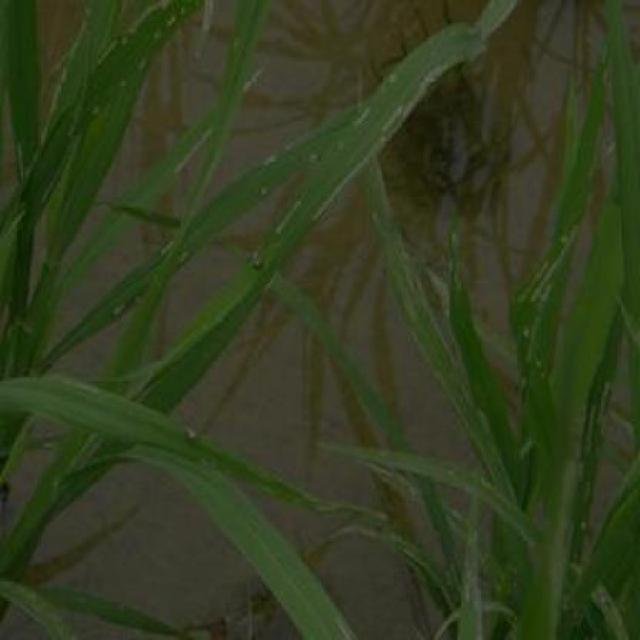rice-bug: (248, 244, 266, 270), (182, 422, 202, 444)
